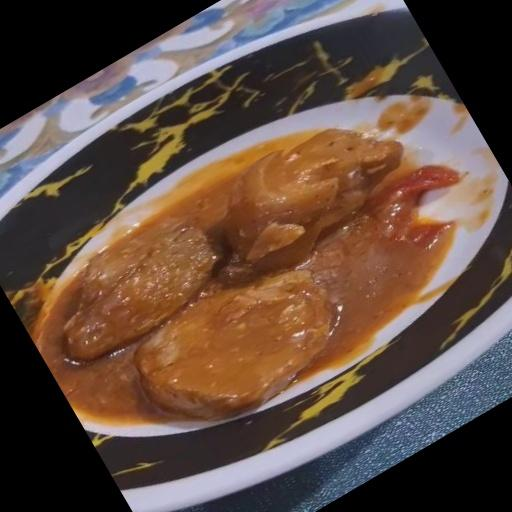pork caldereta: (45, 121, 445, 414)
